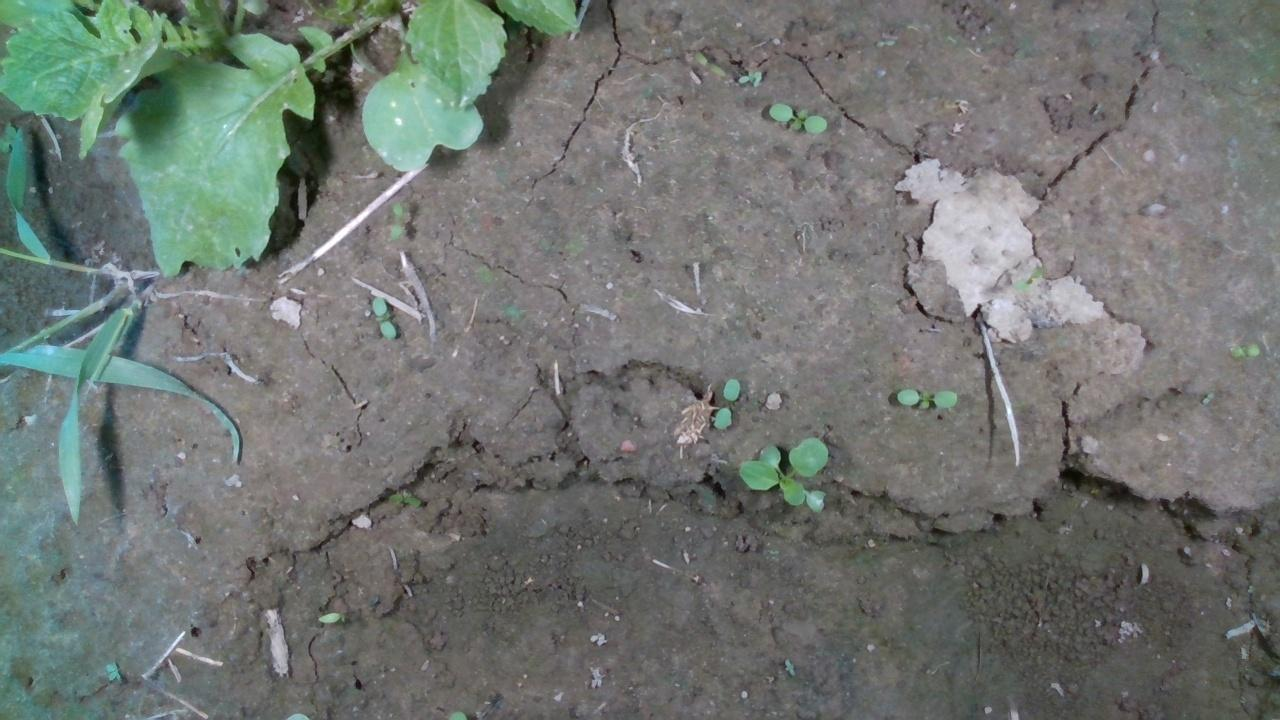weed: (766, 100, 828, 135), (894, 386, 958, 411), (711, 376, 740, 430), (369, 293, 397, 339), (690, 49, 727, 77), (1224, 340, 1260, 358), (103, 660, 121, 682), (1200, 390, 1212, 405)
